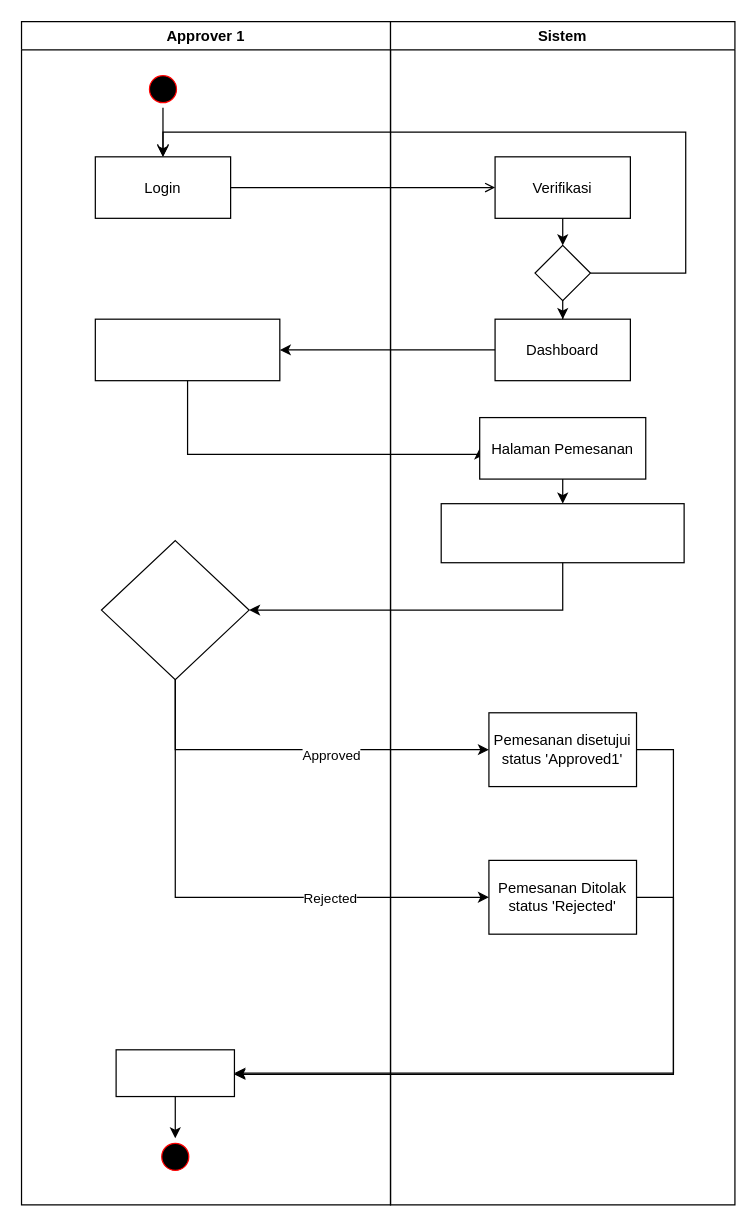
Image size: 756x1226. Some labels were removed from this diagram. The centre of each missing label's shape, as x and y in pixels:
"Logout" belongs at [174,1073].
"Menampilkan Daftar Pemesanan" belongs at [562,532].
"Menyetujui Pemesanan" belongs at [174,609].
"Pilih Sidebar Pemesanan" belongs at [187,349].
